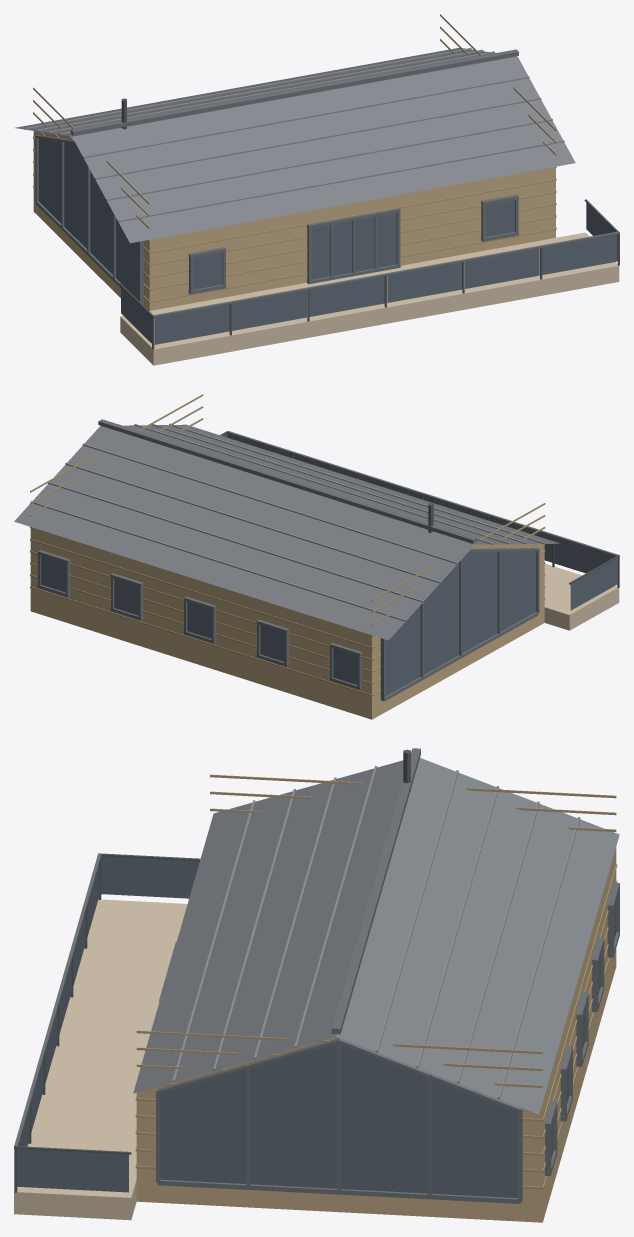
3 renders of one model, top to bottom at view 1: azimuth 30°, elevation 25°; view 2: azimuth 150°, elevation 25°; view 3: azimuth 270°, elevation 25°, orthographic. The views are drawn at different scales.
Visible parts, largest first — view 1: slate, door_wood, larch, slate_dk, slate_lt, window_glass_016, door_wood_p, window_glass_001, window_glass_003, window_glass_004, window_glass_006, window_glass_002 (+10 smaller); view 2: slate, door_wood, window_glass_016, slate_dk, slate_lt, door_wood_p, larch, window_glass_007, window_glass_001, window_glass_017, window_glass_019, window_glass_018 (+4 smaller); view 3: slate, window_glass_015, larch, door_wood, slate_dk, slate_lt, door_wood_p, window_glass_008, window_glass_007, pipe.
Boxes of the visible parts, x1,y1,x2,y2 form: slate: (15,47,575,243); door_wood: (33,131,555,310); larch: (120,232,619,365); slate_dk: (35,49,619,317); slate_lt: (25,48,564,222); window_glass_016: (38,138,138,300); door_wood_p: (33,14,556,302); window_glass_001: (154,304,229,344); window_glass_003: (309,276,384,316); window_glass_004: (387,262,462,302); window_glass_006: (542,234,617,274); window_glass_002: (232,290,306,330); slate: (14,424,560,640); door_wood: (30,527,544,719); window_glass_016: (385,551,536,695); slate_dk: (37,419,618,701); slate_lt: (30,423,544,621); door_wood_p: (30,394,545,696); larch: (544,564,619,630); window_glass_007: (570,558,617,610); window_glass_001: (554,537,615,573); window_glass_017: (41,555,65,592); window_glass_019: (187,602,211,638); window_glass_018: (114,579,138,615); slate: (133,758,619,1114); window_glass_015: (160,1044,518,1198); larch: (14,899,187,1220); door_wood: (136,847,616,1222); slate_dk: (14,748,619,1203); slate_lt: (172,766,580,1099); door_wood_p: (135,774,617,1189); window_glass_008: (17,1149,128,1192); window_glass_007: (101,856,199,898); pipe: (14,749,410,1192).
Bounding box in the file's own units: 15.11 × 5.06 × 12.32.
